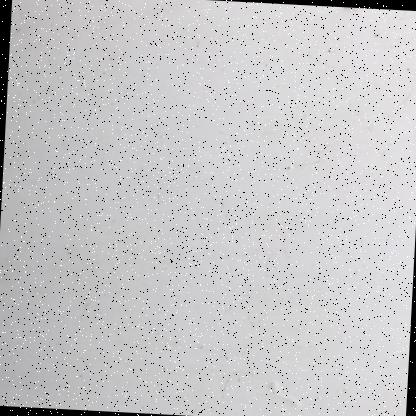Crack: (330, 6, 367, 11)
Nocrack: (7, 4, 415, 415)
